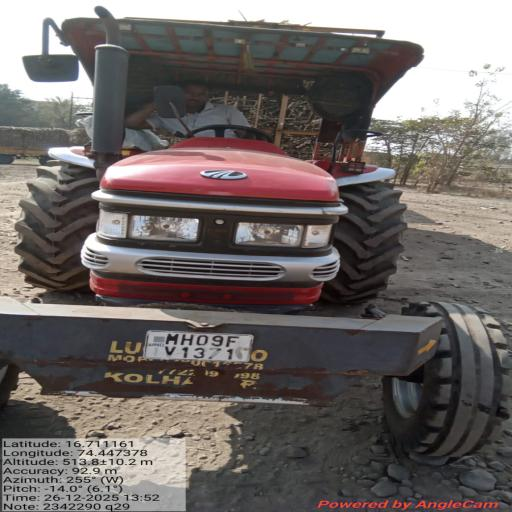number_plate: (144, 326, 261, 376)
